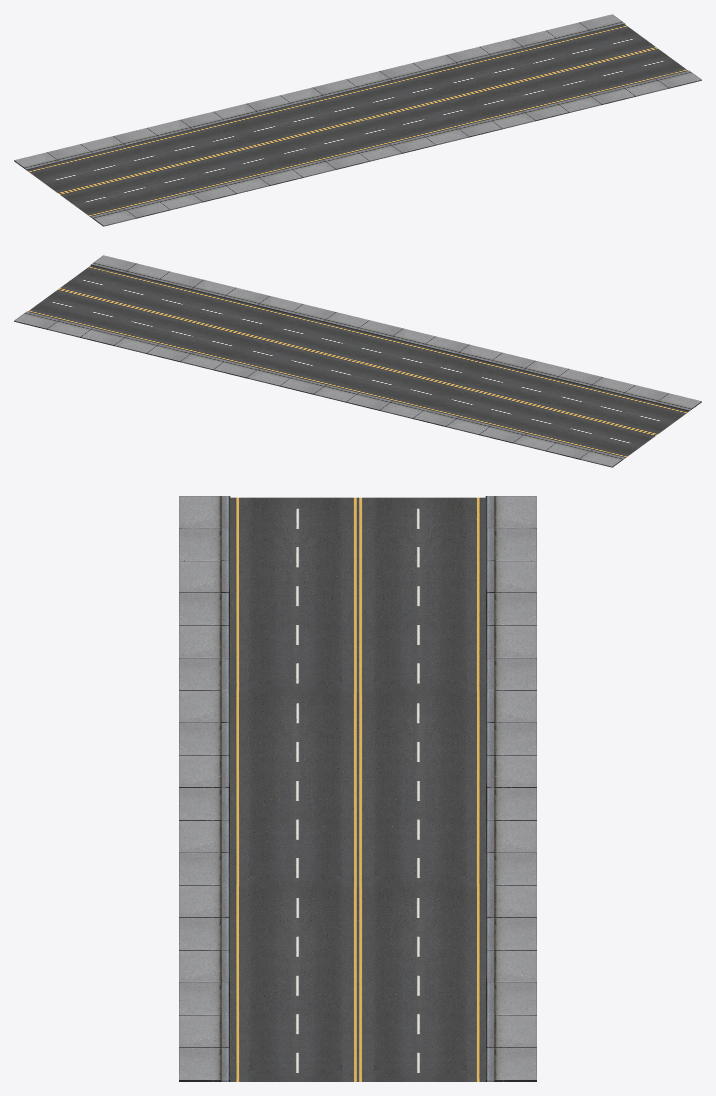
Rendered from road7.glb.
3 renders of one model, top to bottom at view 1: azimuth 30°, elevation 25°; view 2: azimuth 150°, elevation 25°; view 3: azimuth 270°, elevation 25°, orthographic. The views are drawn at different scales.
Visible parts, largest first — view 1: ro_7; view 2: ro_7; view 3: ro_7.
Part boxes in pixels (bbox=[...]): ro_7: bbox=[14, 14, 701, 226]; ro_7: bbox=[14, 255, 701, 467]; ro_7: bbox=[179, 496, 536, 1081].
Bounding box in the file's own units: 117 × 0.1636 × 30.33.
Materials: 1 (1 with a texture image).
